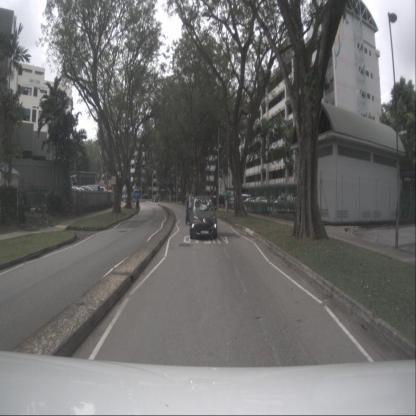vehicle-bicycle: (136, 198, 140, 217)
vehicle-bus-rigid: (130, 188, 140, 202)
vehicle-car: (189, 196, 217, 239), (81, 184, 101, 202), (90, 186, 107, 202), (251, 196, 268, 207), (223, 194, 235, 209), (242, 197, 257, 207), (217, 196, 227, 206), (152, 195, 159, 203)
vehicle-motorcycle: (186, 193, 200, 225)
vehicle-truck: (277, 192, 294, 206)
